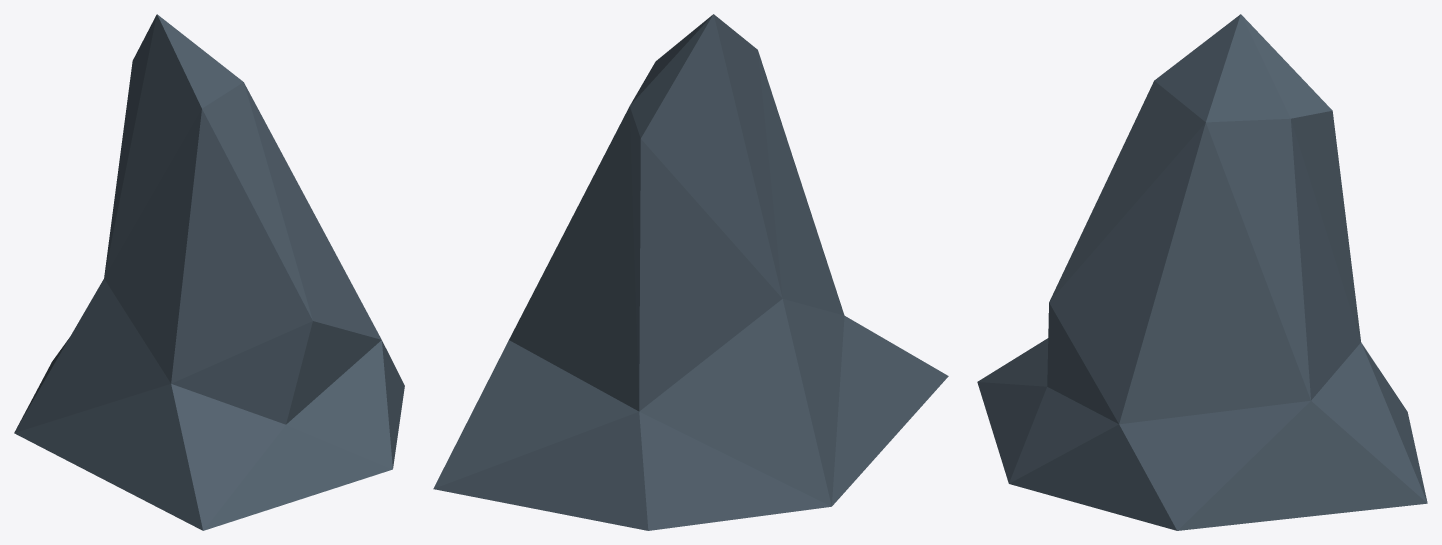
The model's file is Rock2.fbx.
The picture shows the model from 3 angles, left to right: view 1: azimuth 30°, elevation 25°; view 2: azimuth 150°, elevation 25°; view 3: azimuth 270°, elevation 25°; orthographic projection. The views are drawn at different scales.
Visible parts, largest first — view 1: fuckingrocks; view 2: fuckingrocks; view 3: fuckingrocks.
Boxes of the visible parts, x1,y1,x2,y2 form: fuckingrocks: (14,14,404,530); fuckingrocks: (433,14,948,530); fuckingrocks: (977,14,1427,530).
Bounding box in the file's own units: 2.31 × 2.6 × 2.59.
